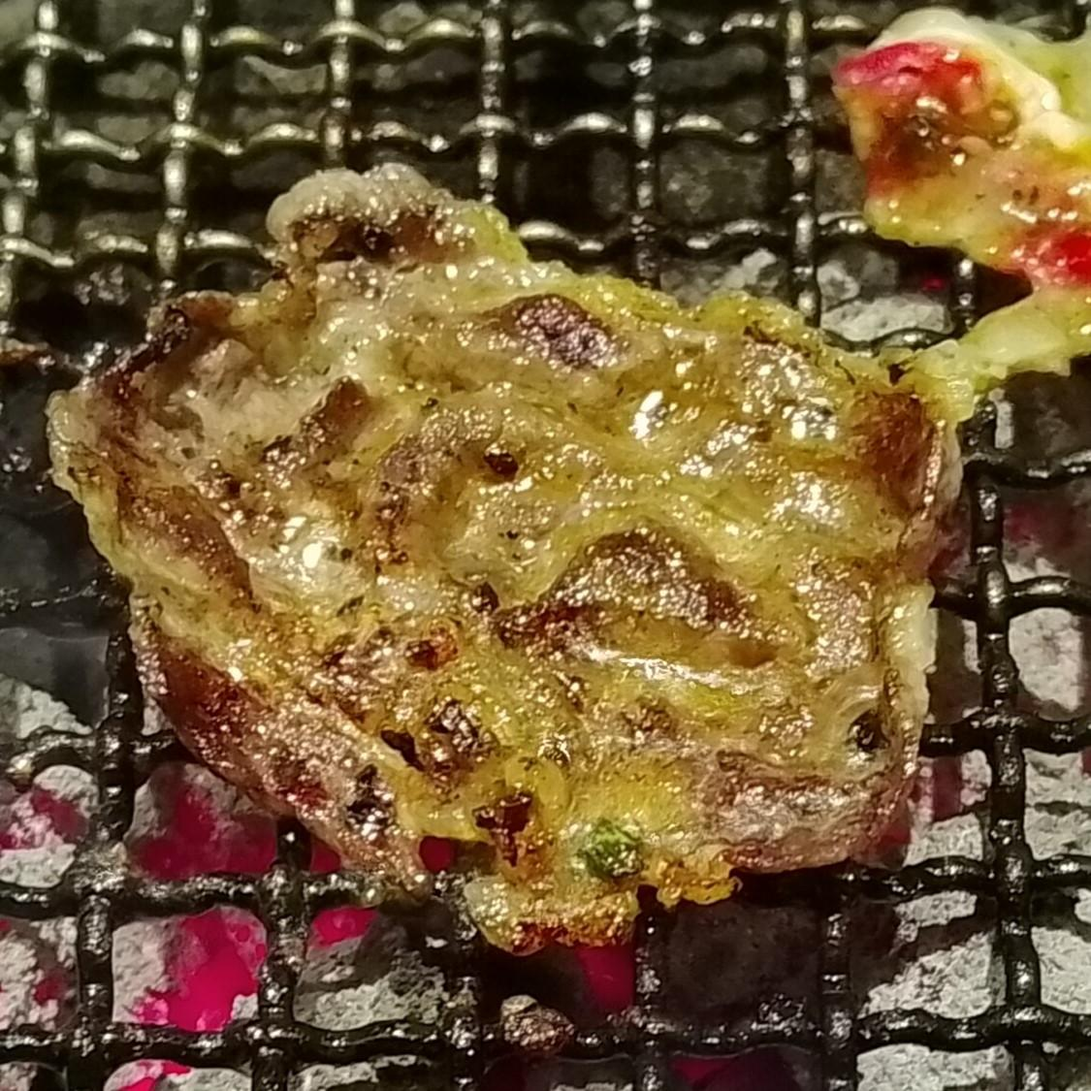Overcooked: (45, 167, 957, 957)
Undercooked: (830, 10, 1090, 298)
